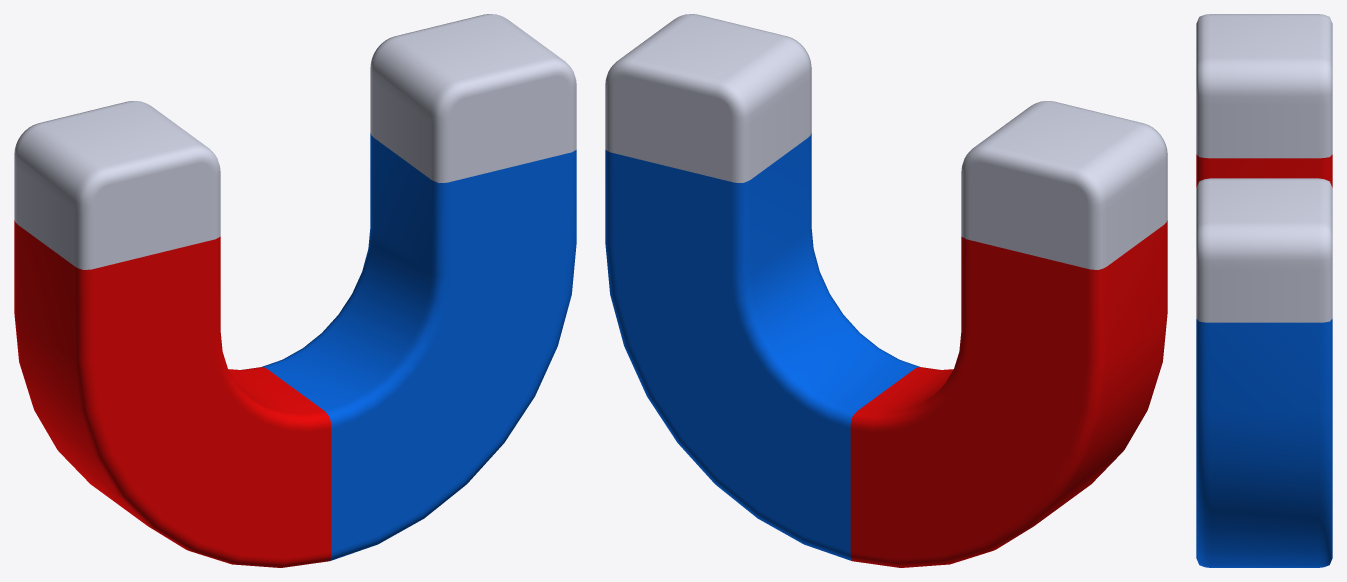
Rendered from POW_magnet.fbx.
3 views of the same model, side by side, from view 1: azimuth 30°, elevation 25°; view 2: azimuth 150°, elevation 25°; view 3: azimuth 270°, elevation 25° (orthographic). The views are drawn at different scales.
Visible parts, largest first — view 1: Torus, Torus.002, Torus.001; view 2: Torus, Torus.002, Torus.001; view 3: Torus.001, Torus, Torus.002.
Part boxes in pixels (x1=…): Torus: x1=262, y1=133, x2=576, y2=560; Torus.002: x1=14, y1=220, x2=331, y2=567; Torus.001: x1=14, y1=14, x2=576, y2=269; Torus: x1=605, y1=133, x2=919, y2=560; Torus.002: x1=850, y1=220, x2=1167, y2=567; Torus.001: x1=605, y1=14, x2=1167, y2=269; Torus.001: x1=1196, y1=14, x2=1332, y2=322; Torus: x1=1196, y1=319, x2=1332, y2=567; Torus.002: x1=1196, y1=154, x2=1332, y2=187.
Size of the model in its own units: 358 by 307 by 89.6.
